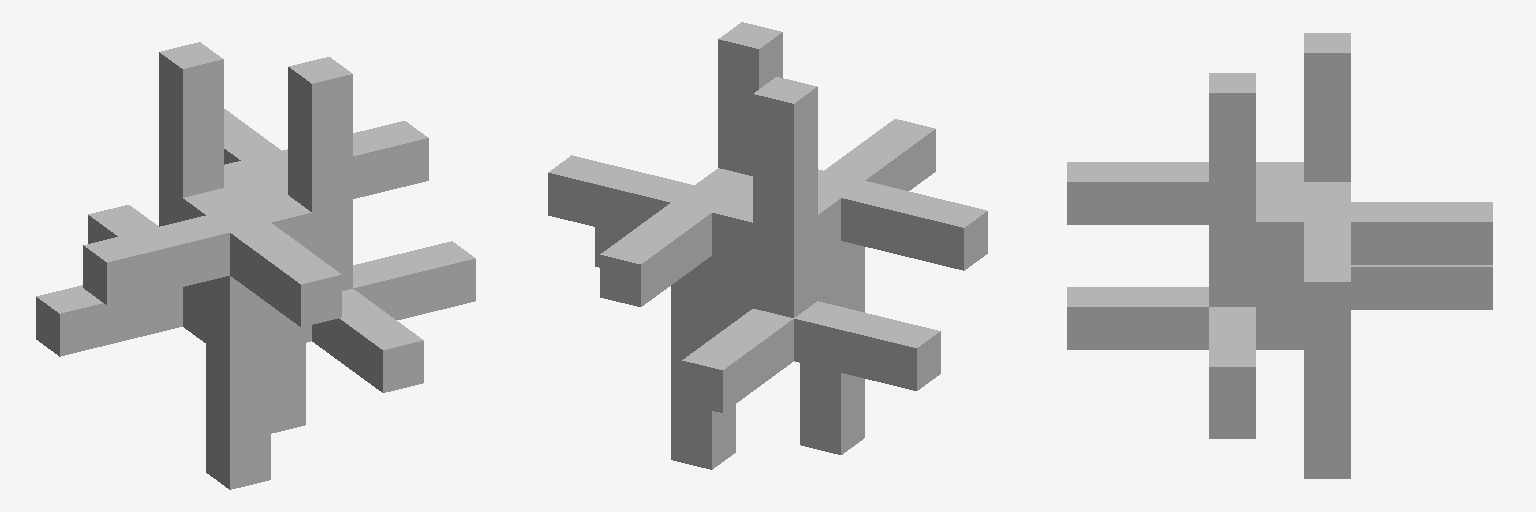
File: cubee.obj
3 renders of one model, left to right at view 1: azimuth 30°, elevation 25°; view 2: azimuth 150°, elevation 25°; view 3: azimuth 270°, elevation 25°, orthographic.
Parts seen in each view (by area): view 1: Cube; view 2: Cube; view 3: Cube.
Boxes of the visible parts, x1,y1,x2,y2 form: Cube: [36, 42, 475, 489]; Cube: [548, 22, 987, 469]; Cube: [1067, 33, 1492, 478].
Bounding box in the file's own units: 6 × 6 × 6.